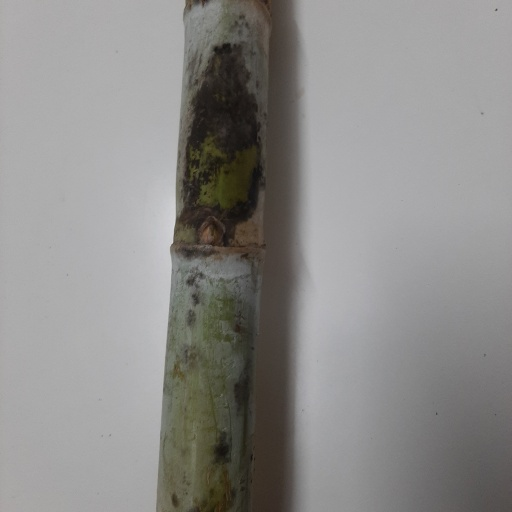Bud: (199, 218, 224, 246)
